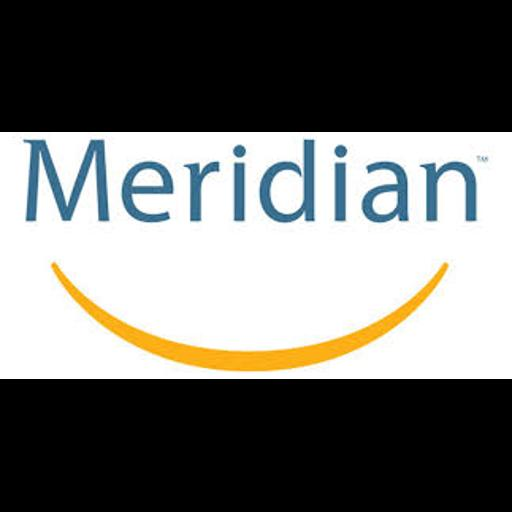Meridian Credit Union: (0, 132, 512, 379)
